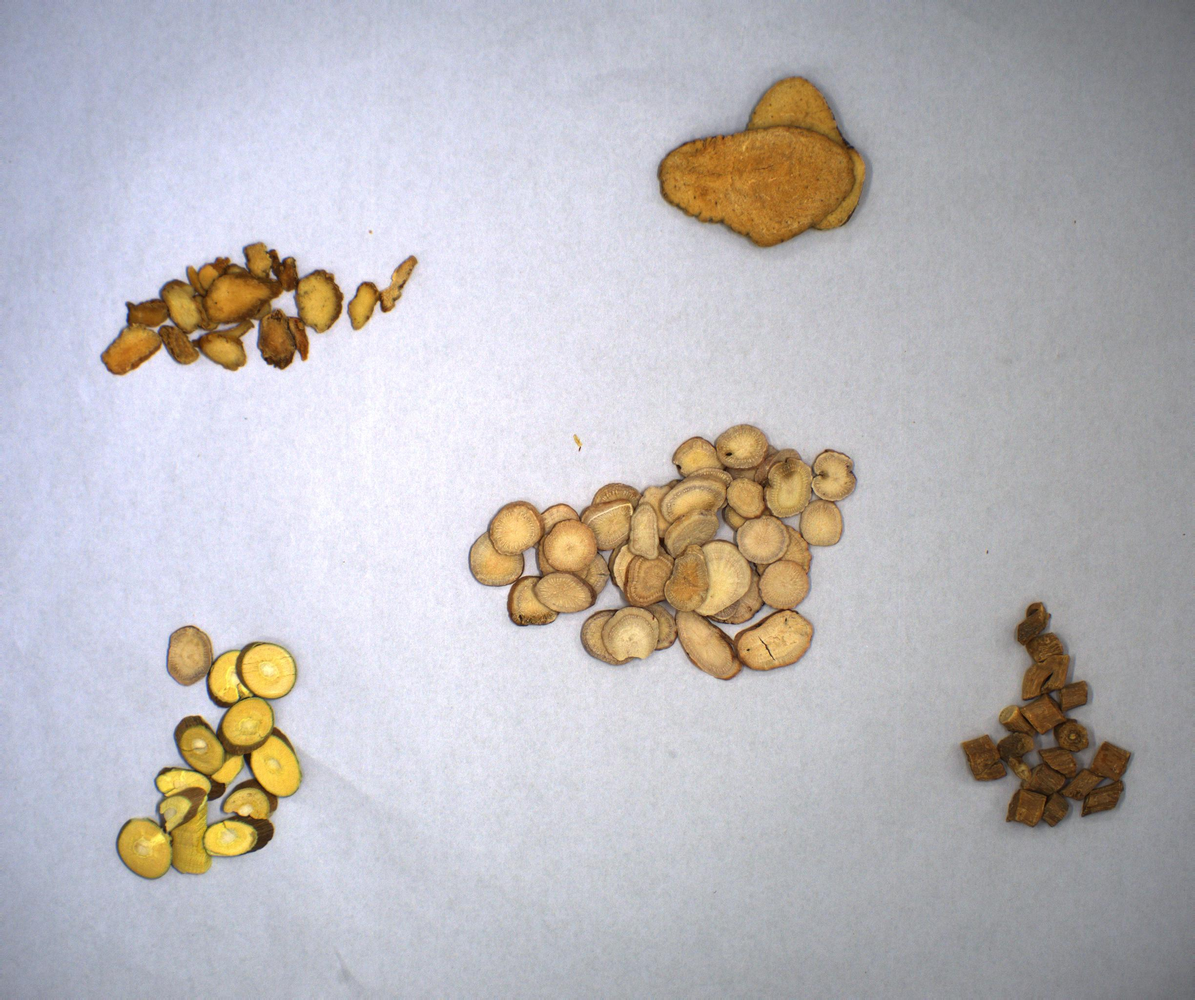baishao: (455, 421, 866, 692)
niuxi: (955, 593, 1141, 832)
sangzhi: (99, 616, 314, 885)
yuzhu: (87, 235, 431, 381)
zexie: (651, 73, 877, 251)
